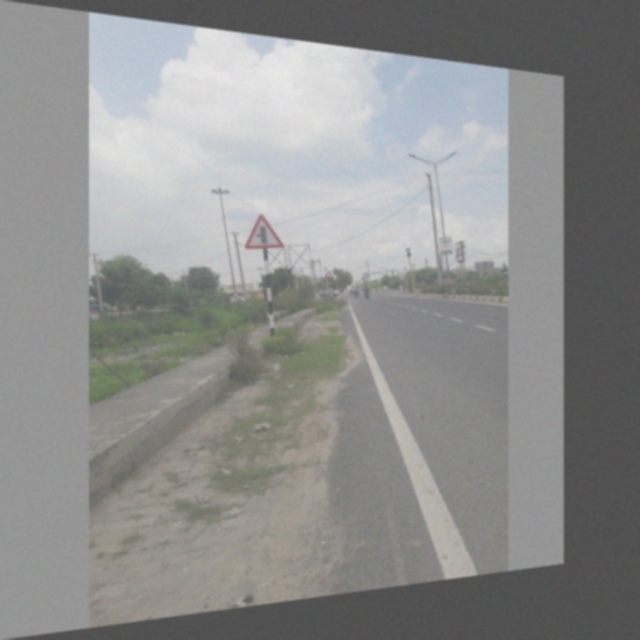Side_Road_Left: (237, 207, 285, 255)
